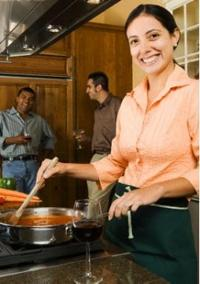person: (36, 3, 199, 283)
